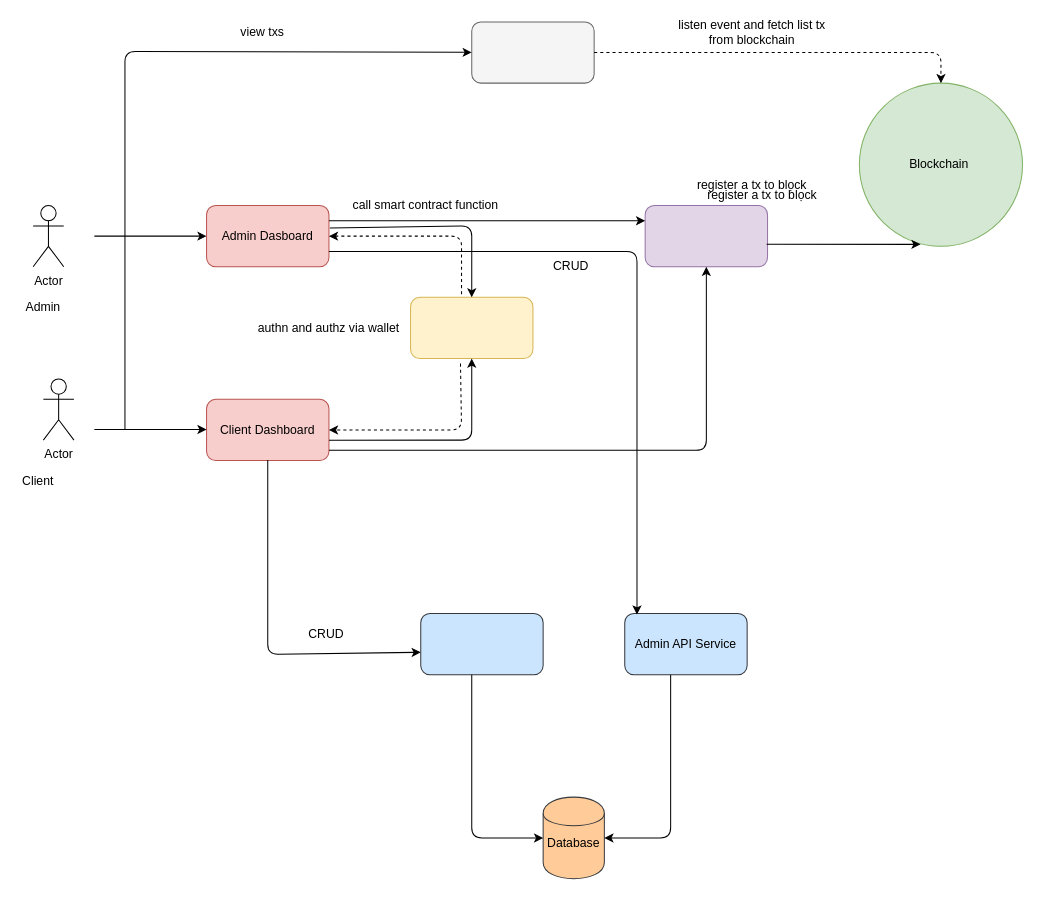
Some shapes in this 1040 by 897 pixel diagram are drawn without their labels. The shapes that lost their labels are listed below. From the top down, each one's centre as x and y in pixels, then its label:
pixel 532 52: Explorer
pixel 706 236: SmartContract
pixel 471 327: Metamask
pixel 481 644: Client API service
